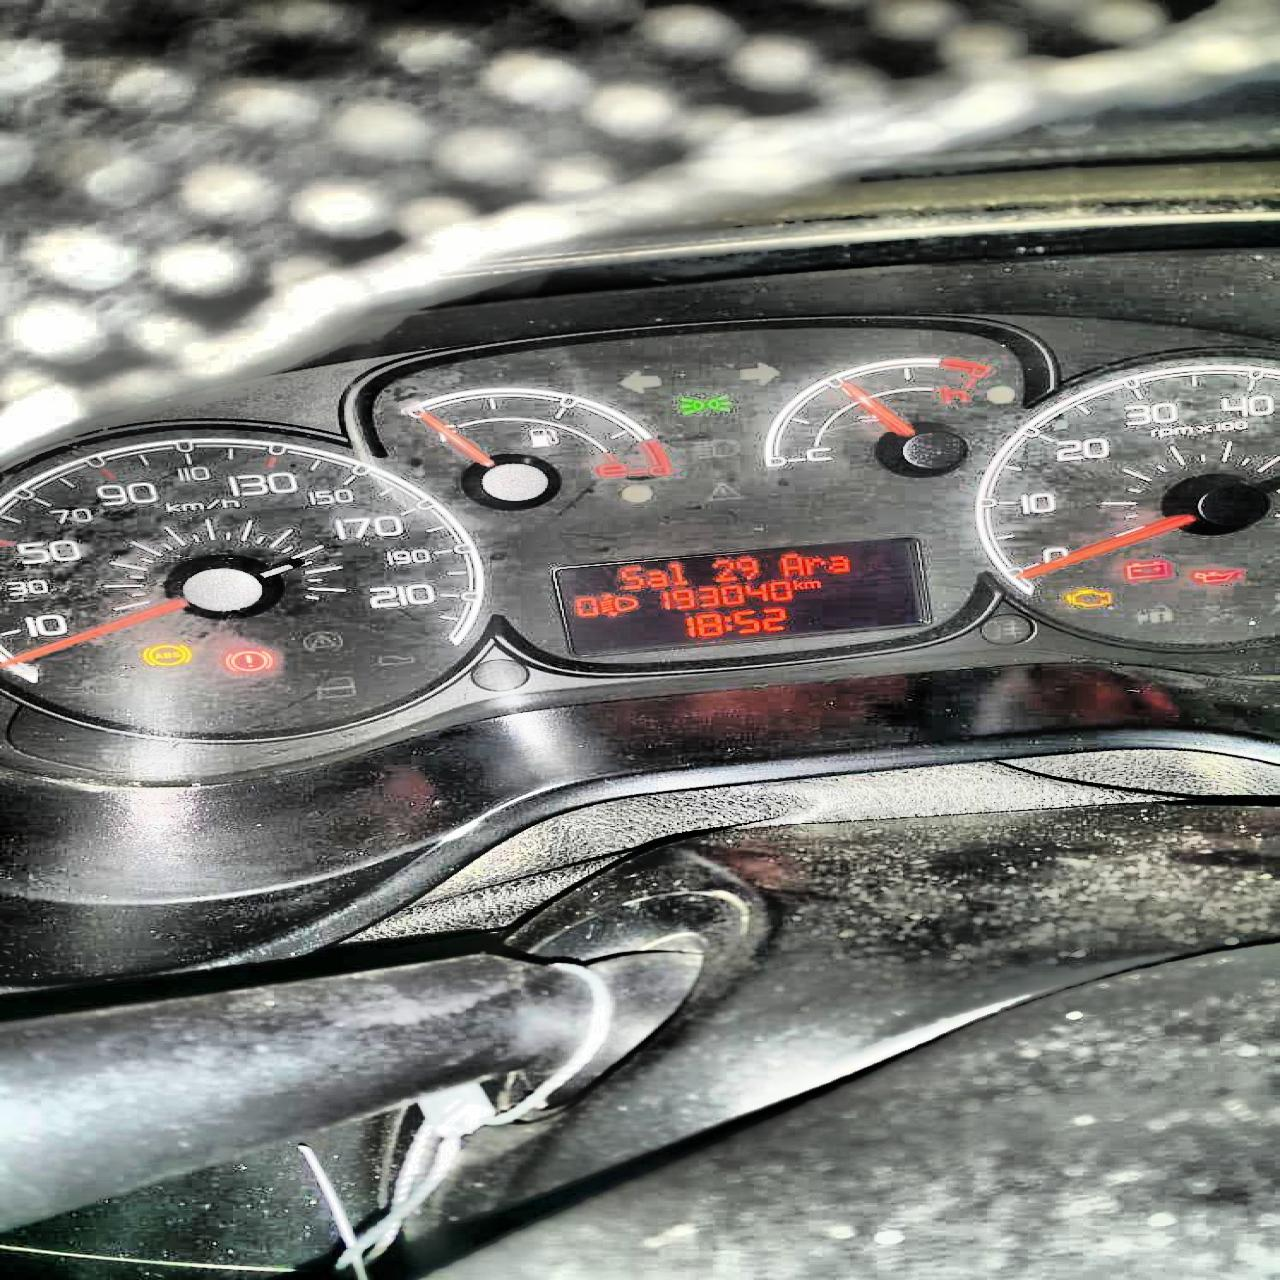0: (574, 595, 600, 617), (719, 585, 744, 605), (768, 580, 791, 600)
1: (659, 590, 672, 610), (683, 615, 695, 636)
2: (709, 557, 735, 583), (761, 607, 787, 631)
3: (697, 586, 720, 606)
4: (743, 584, 768, 601)
5: (731, 610, 760, 633)
8: (694, 611, 723, 636)
9: (734, 556, 758, 580), (670, 588, 694, 610)
X: (619, 565, 642, 590), (778, 553, 802, 576), (668, 561, 689, 586), (646, 568, 668, 587), (802, 557, 824, 574), (828, 556, 850, 573), (721, 614, 731, 632), (803, 579, 821, 587), (791, 579, 803, 590)
odometer: (545, 535, 935, 659)
